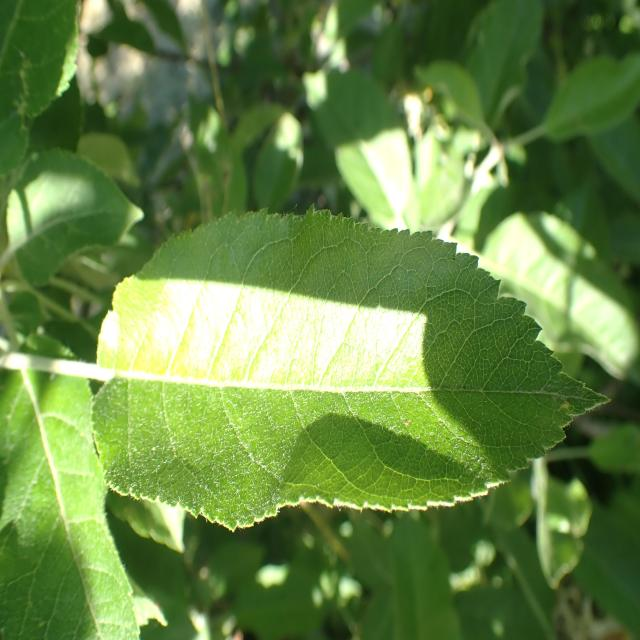healthy: (90, 206, 612, 531), (0, 331, 146, 640), (4, 147, 145, 289), (0, 0, 81, 177)
